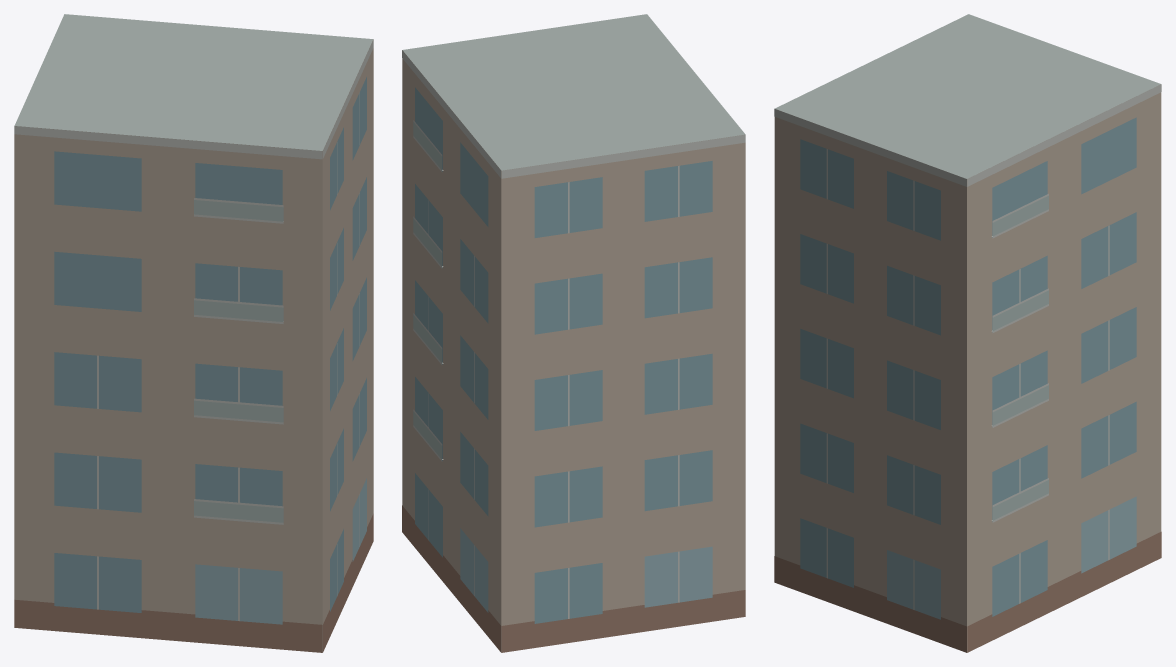
The model's file is survey-upis-32899299.glb.
The picture shows the model from 3 angles, left to right: view 1: azimuth 30°, elevation 25°; view 2: azimuth 150°, elevation 25°; view 3: azimuth 270°, elevation 25°; orthographic projection. The views are drawn at different scales.
Parts seen in each view (by area): view 1: survey-upis-32899299.tmp; view 2: survey-upis-32899299.tmp; view 3: survey-upis-32899299.tmp.
Part boxes in pixels (x1,y1,x2,y2): survey-upis-32899299.tmp: (14, 14, 373, 652); survey-upis-32899299.tmp: (402, 14, 745, 652); survey-upis-32899299.tmp: (774, 14, 1161, 652).
Size of the model in its own units: 10.88 by 14.55 by 10.78.
